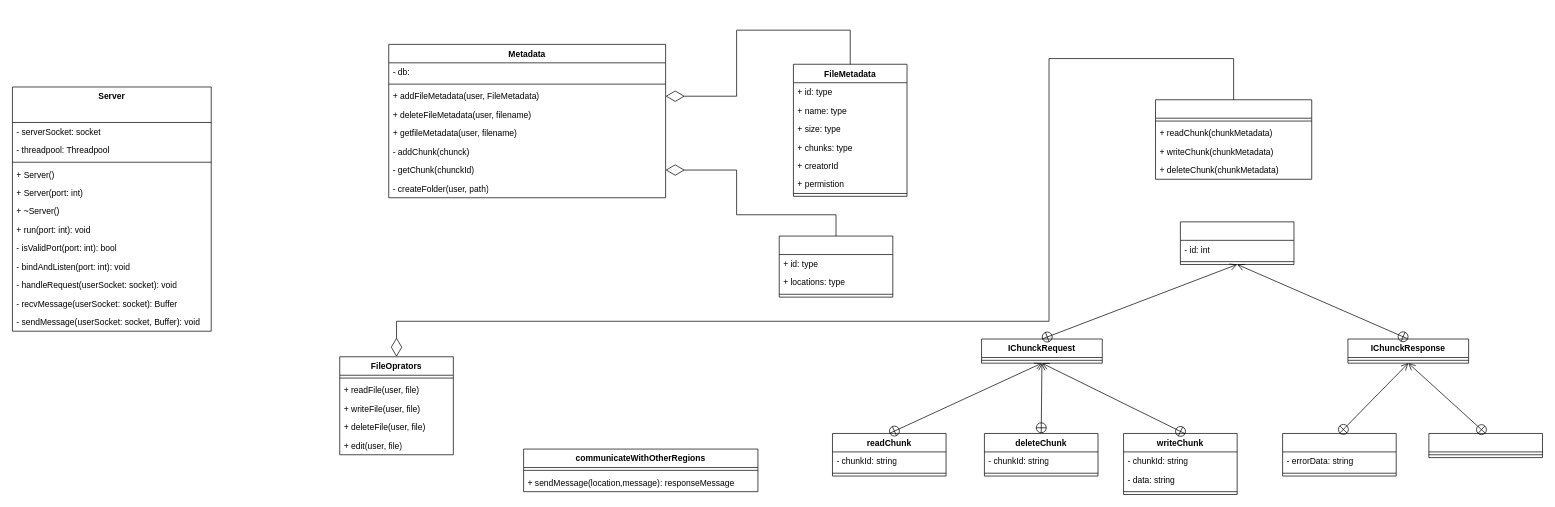
The diagram is 1555 pixels wide and 507 high, and some of its shapes have lost their labels. Each missing label, with the box of its shape:
ChunckACKMessage: (1428, 433, 1542, 458)
ChunckErrorMessage: (1282, 433, 1396, 476)
ChunckOprators: (1155, 99, 1312, 179)
ChunkMetadata: (779, 235, 893, 297)
IMessage: (1180, 221, 1294, 264)
